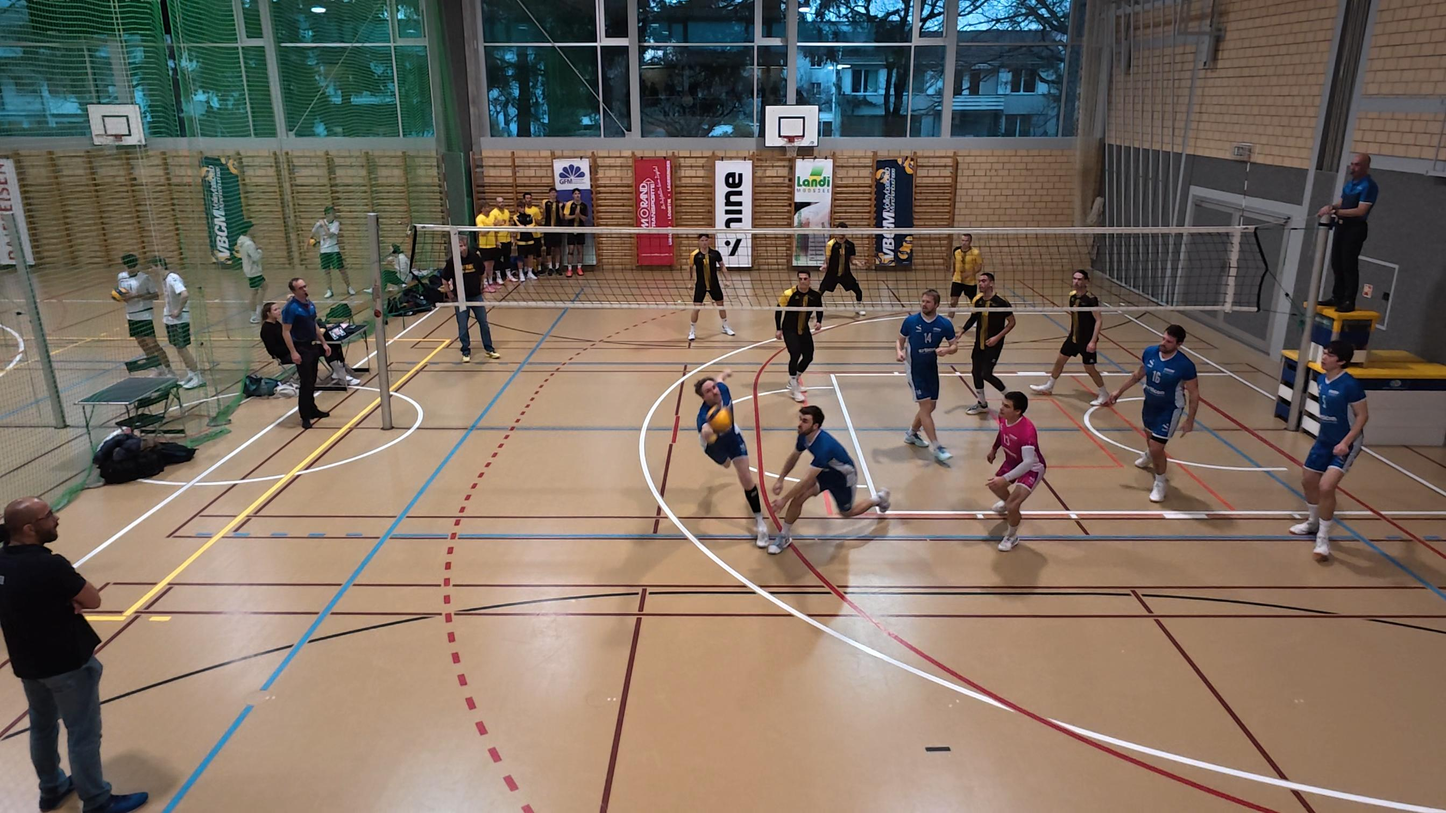difesa: (688, 374, 777, 545)
